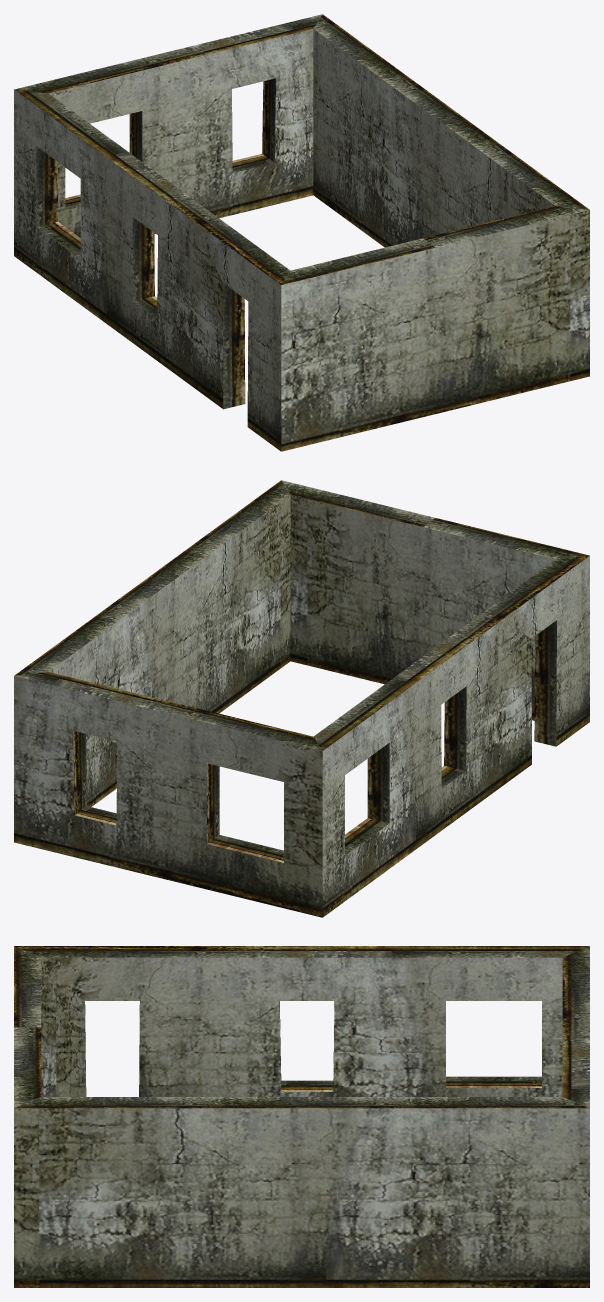
Rendered from wall1.dae.
3 renders of one model, top to bottom at view 1: azimuth 30°, elevation 25°; view 2: azimuth 150°, elevation 25°; view 3: azimuth 270°, elevation 25°, orthographic. The views are drawn at different scales.
Parts seen in each view (by area): view 1: wall1-col; view 2: wall1-col; view 3: wall1-col.
Boxes of the visible parts, box(x1,y1,x2,y2) form: wall1-col: box(14, 14, 589, 451); wall1-col: box(14, 480, 589, 917); wall1-col: box(14, 946, 589, 1287).
Size of the model in its own units: 8 by 12 by 4.12.
Materials: 1 (1 with a texture image).
